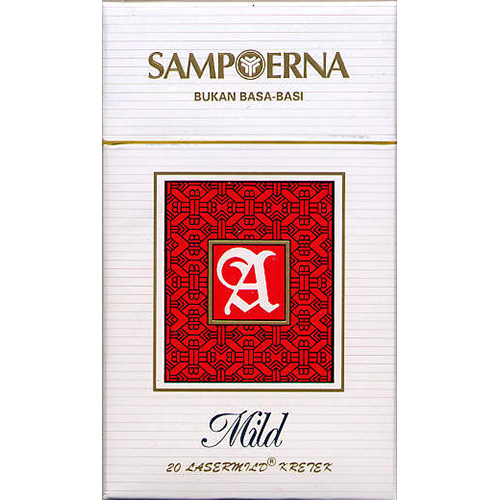A Mild: (100, 145, 395, 500)
